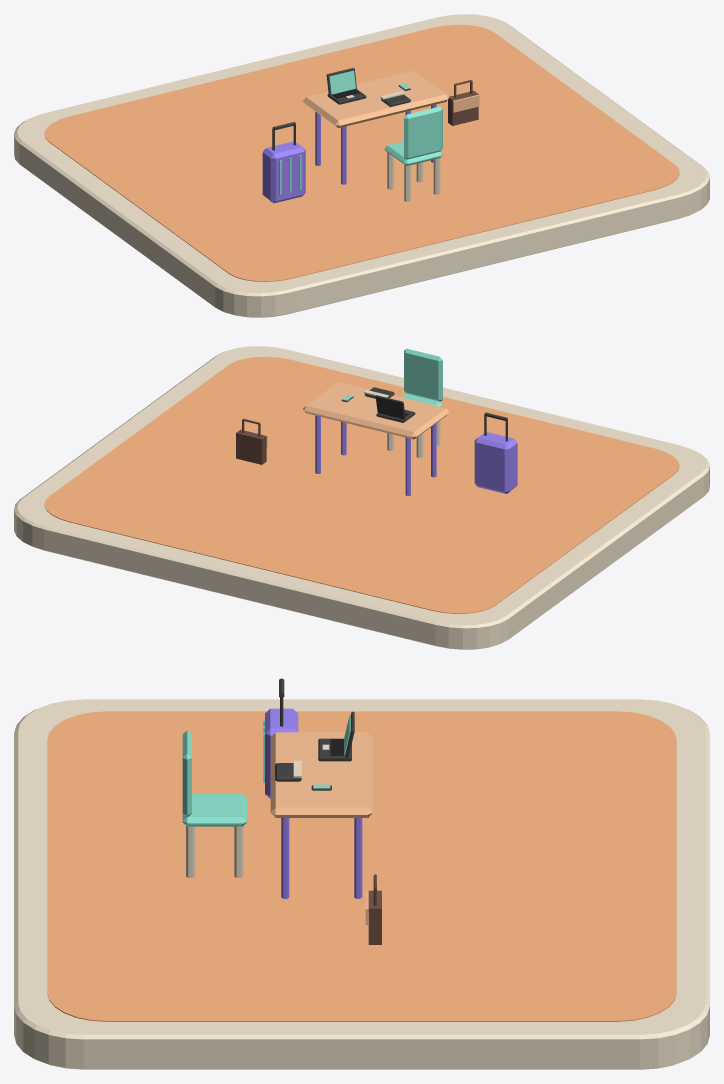
The picture shows the model from 3 angles, top to bottom: view 1: azimuth 30°, elevation 25°; view 2: azimuth 150°, elevation 25°; view 3: azimuth 270°, elevation 25°; orthographic projection. The views are drawn at different scales.
Parts seen in each view (by area): view 1: COM-02 Floor Surface, COM-01 Rounded Base Direct, Rounded table top, Shell, Backrest, Bag, Seat, Display face; view 2: COM-02 Floor Surface, COM-01 Rounded Base Direct, Rounded table top, Shell, Backrest, Bag, Hinged display; view 3: COM-02 Floor Surface, COM-01 Rounded Base Direct, Rounded table top, Seat, Shell, Bag, Backrest, Leg.002, Leg.003.
Part boxes in pixels (box(x1,y1,x2,y2)): COM-02 Floor Surface: box(44, 24, 679, 281); COM-01 Rounded Base Direct: box(14, 14, 709, 317); Rounded table top: box(303, 70, 449, 128); Shell: box(262, 141, 305, 203); Backrest: box(404, 106, 442, 159); Bag: box(448, 80, 479, 125); Seat: box(384, 141, 442, 165); Display face: box(329, 70, 355, 94); COM-02 Floor Surface: box(44, 356, 679, 613); COM-01 Rounded Base Direct: box(14, 346, 709, 649); Rounded table top: box(303, 382, 449, 439); Shell: box(474, 432, 517, 493); Backrest: box(404, 348, 442, 401); Bag: box(236, 418, 267, 464); Hinged display: box(375, 395, 405, 419); COM-02 Floor Surface: box(47, 711, 676, 1021); COM-01 Rounded Base Direct: box(14, 699, 709, 1069); Rounded table top: box(270, 732, 372, 817); Seat: box(182, 794, 246, 826); Shell: box(265, 708, 298, 798); Bag: box(365, 874, 381, 944); Backrest: box(182, 730, 191, 817); Leg.002: box(281, 818, 289, 898); Leg.003: box(354, 818, 362, 898).
Size of the model in its own units: 6 by 1.35 by 5.2.
1 material, 1 textured.
